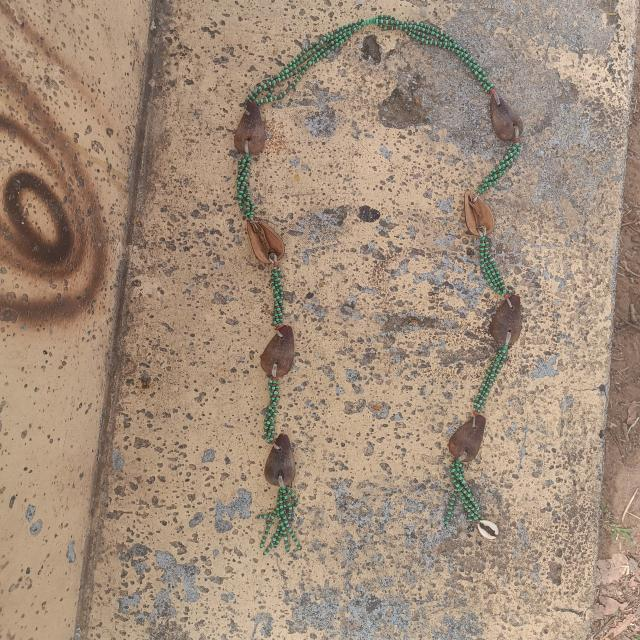facedown: (257, 322, 301, 381), (232, 98, 270, 161), (484, 89, 526, 146), (488, 289, 526, 352), (448, 408, 489, 466), (263, 430, 297, 494)
faceup: (243, 218, 290, 270), (461, 184, 497, 240)
